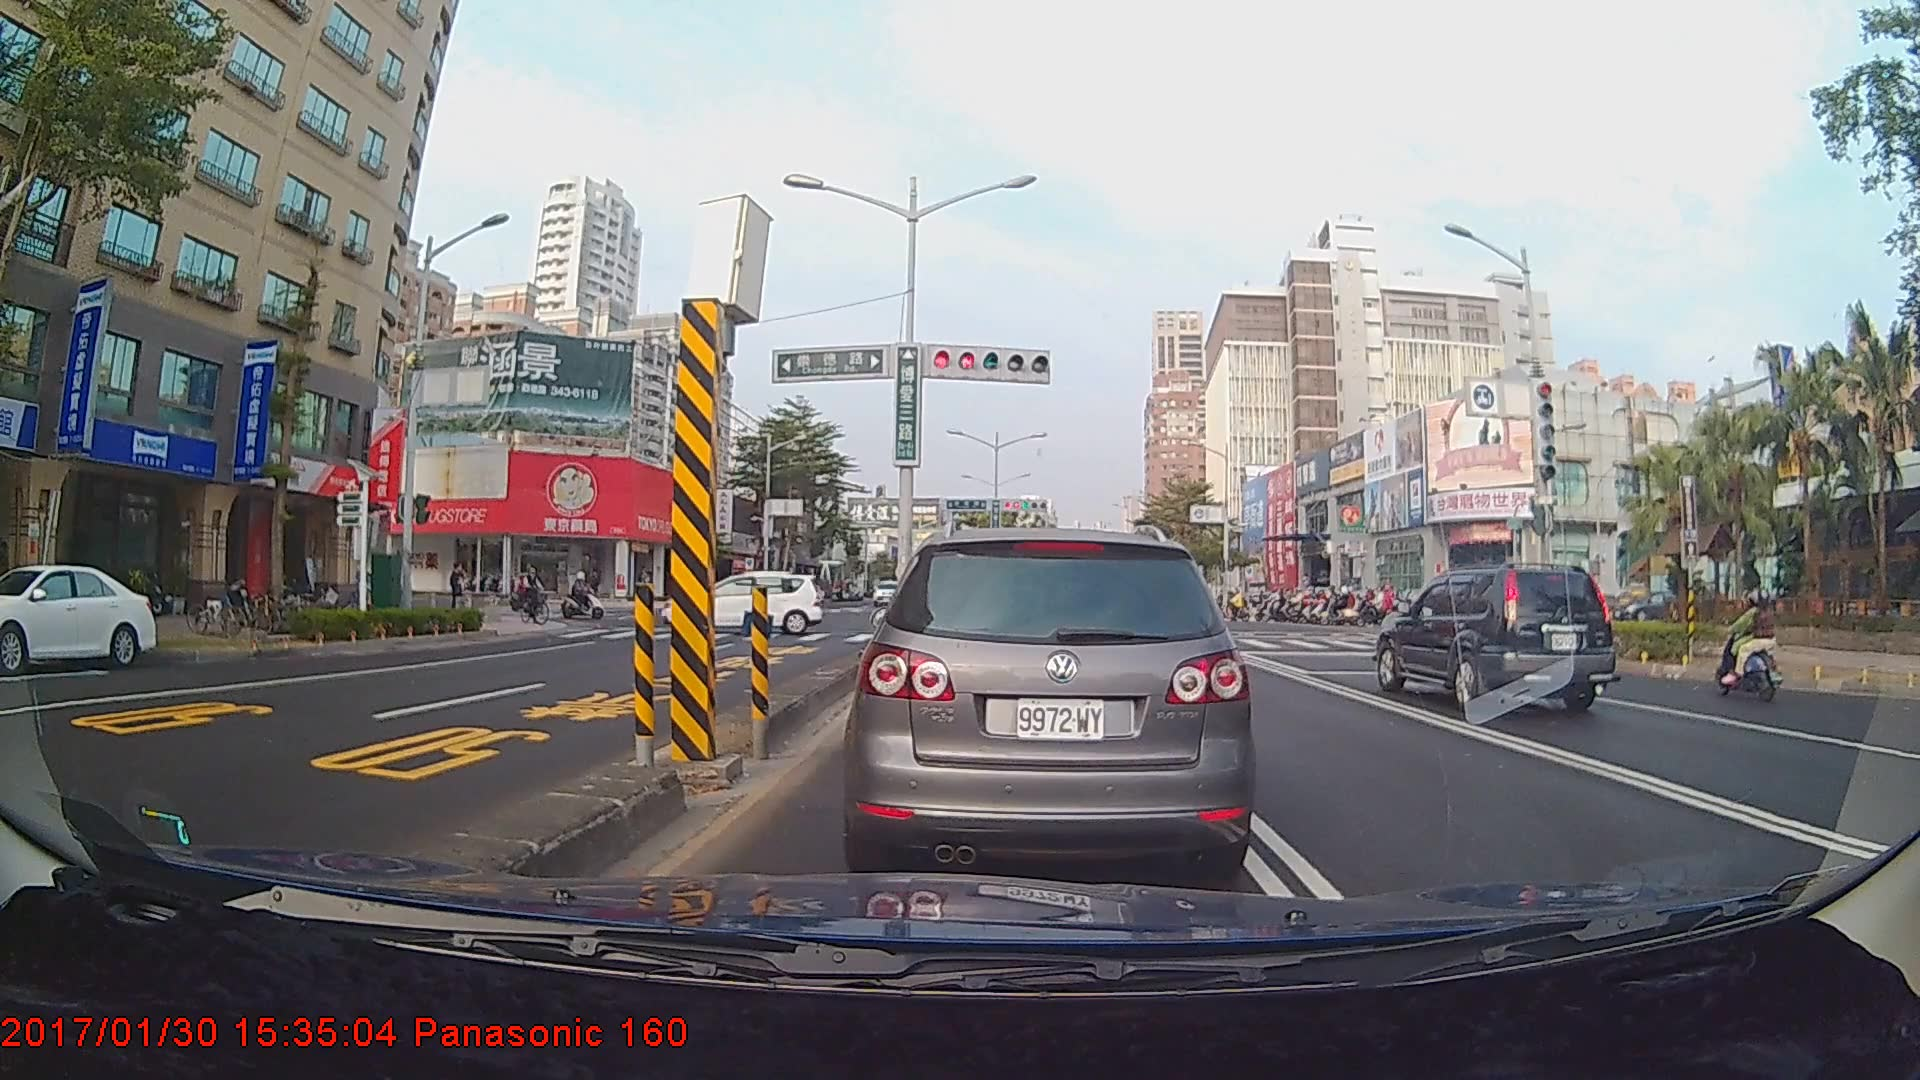pedestrian: (449, 563, 469, 620)
rider: (1712, 582, 1791, 709), (560, 571, 608, 622), (500, 571, 548, 615), (520, 566, 550, 627)
vehicle: (837, 511, 1259, 883), (1371, 565, 1612, 714), (0, 563, 153, 675), (661, 570, 824, 635)
